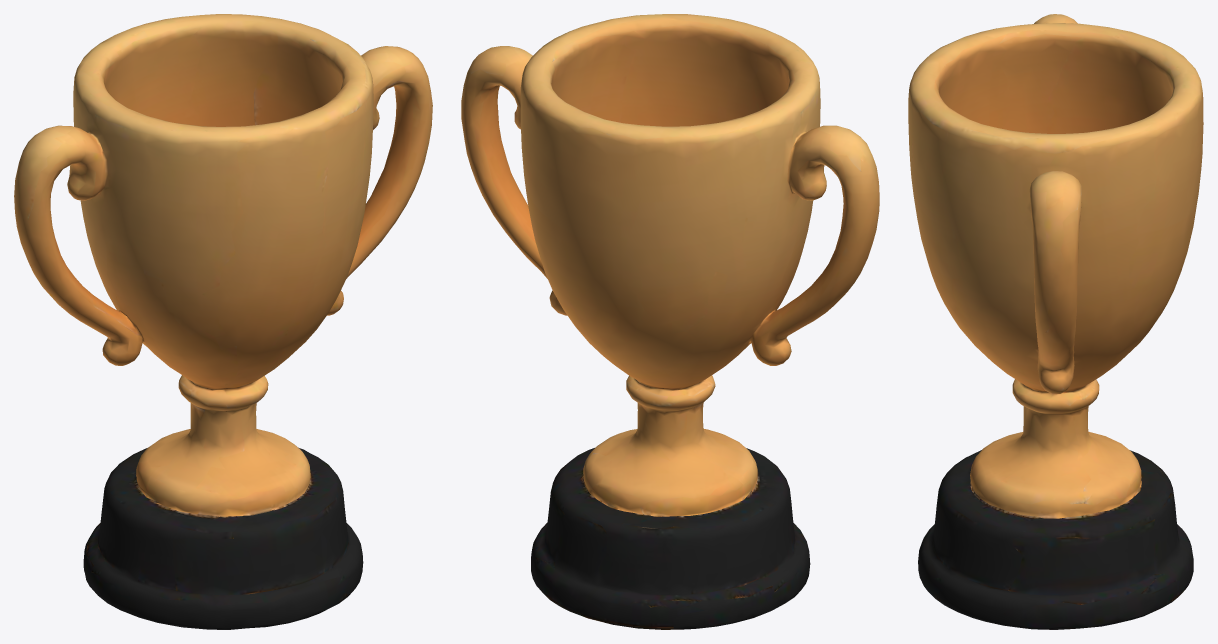
The model's file is trophy.glb.
3 views of the same model, side by side, from view 1: azimuth 30°, elevation 25°; view 2: azimuth 150°, elevation 25°; view 3: azimuth 270°, elevation 25° (orthographic).
Bounding box in the file's own units: 0.8653 × 1.01 × 0.5466.
Materials: 1 (1 with a texture image).
